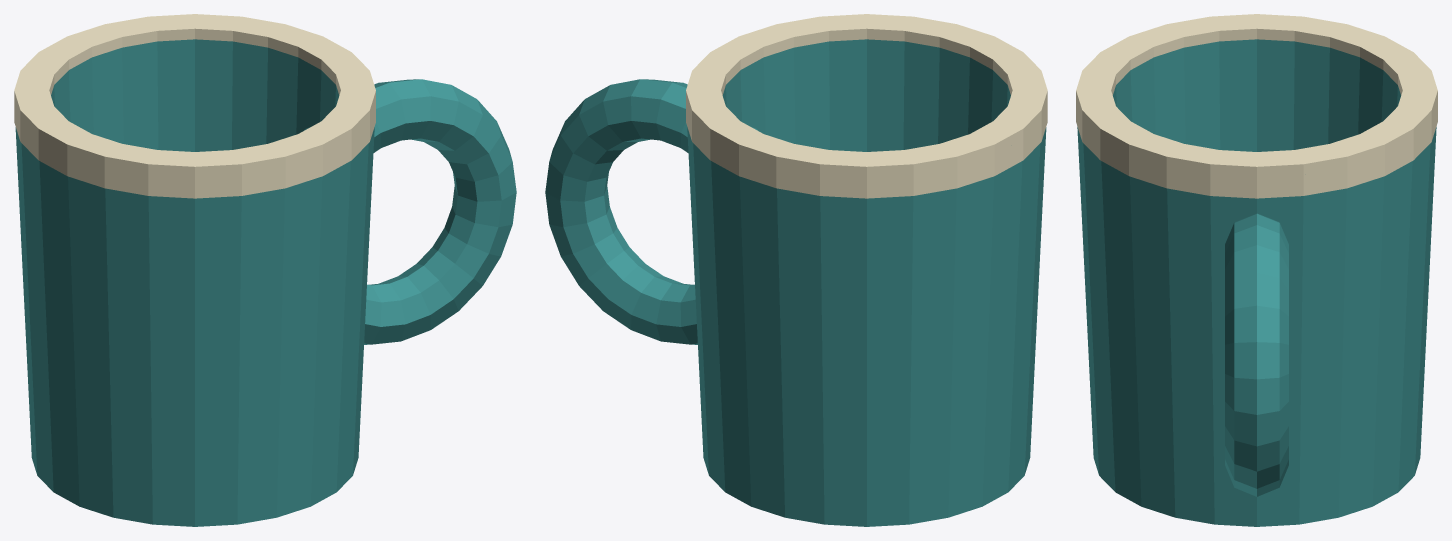
Rendered from P036_mug.glb.
3 views of the same model, side by side, from view 1: azimuth 30°, elevation 25°; view 2: azimuth 150°, elevation 25°; view 3: azimuth 270°, elevation 25° (orthographic).
Parts seen in each view (by area): view 1: P036_cup_001, P036_rim_003, P036_handle_002; view 2: P036_cup_001, P036_rim_003, P036_handle_002; view 3: P036_cup_001, P036_rim_003, P036_handle_002.
Part boxes in pixels (left/top/right/bottom): P036_cup_001: left=15, top=39, right=374, bottom=526; P036_rim_003: left=14, top=14, right=375, bottom=198; P036_handle_002: left=304, top=79, right=516, bottom=344; P036_cup_001: left=687, top=39, right=1046, bottom=526; P036_rim_003: left=686, top=14, right=1047, bottom=198; P036_handle_002: left=545, top=79, right=757, bottom=344; P036_cup_001: left=1077, top=39, right=1436, bottom=526; P036_rim_003: left=1076, top=14, right=1437, bottom=198; P036_handle_002: left=1225, top=213, right=1288, bottom=496.
Bounding box in the file's own units: 0.188 × 0.139 × 0.124.
